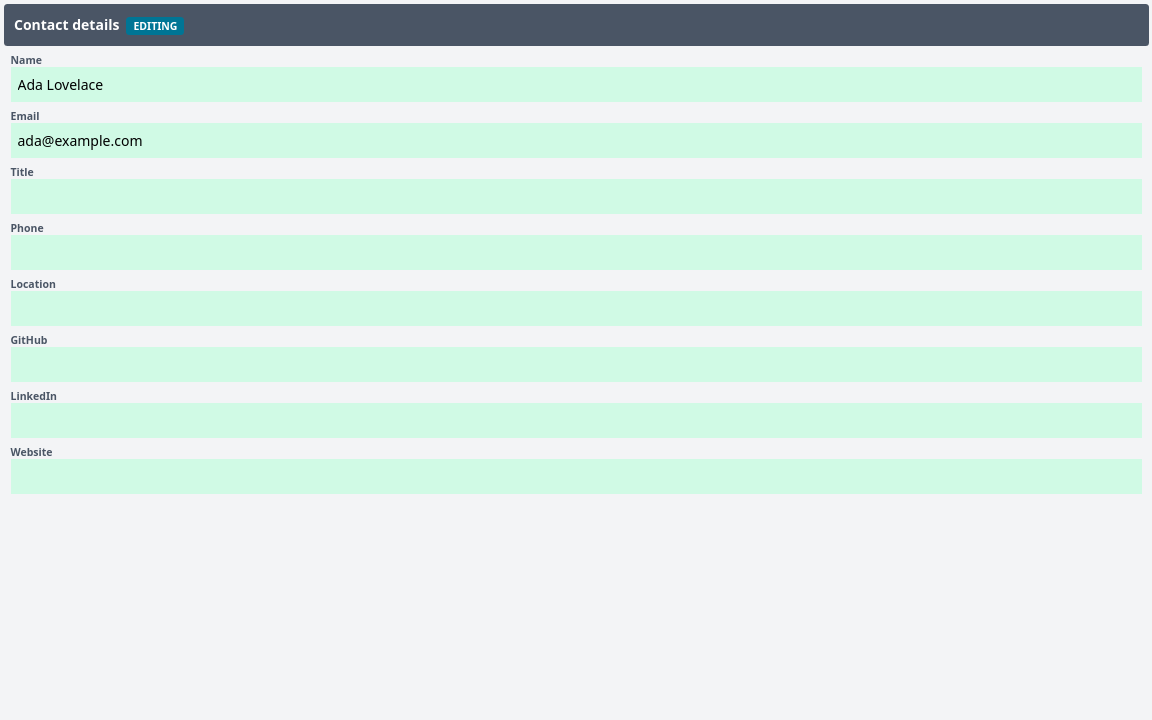
Test: ContactEditor › shows an inline error under just the email field for a malformed email
Replace the text in the field named "email" with "not-an-email" at [576, 140], box [10,122,1142,158]
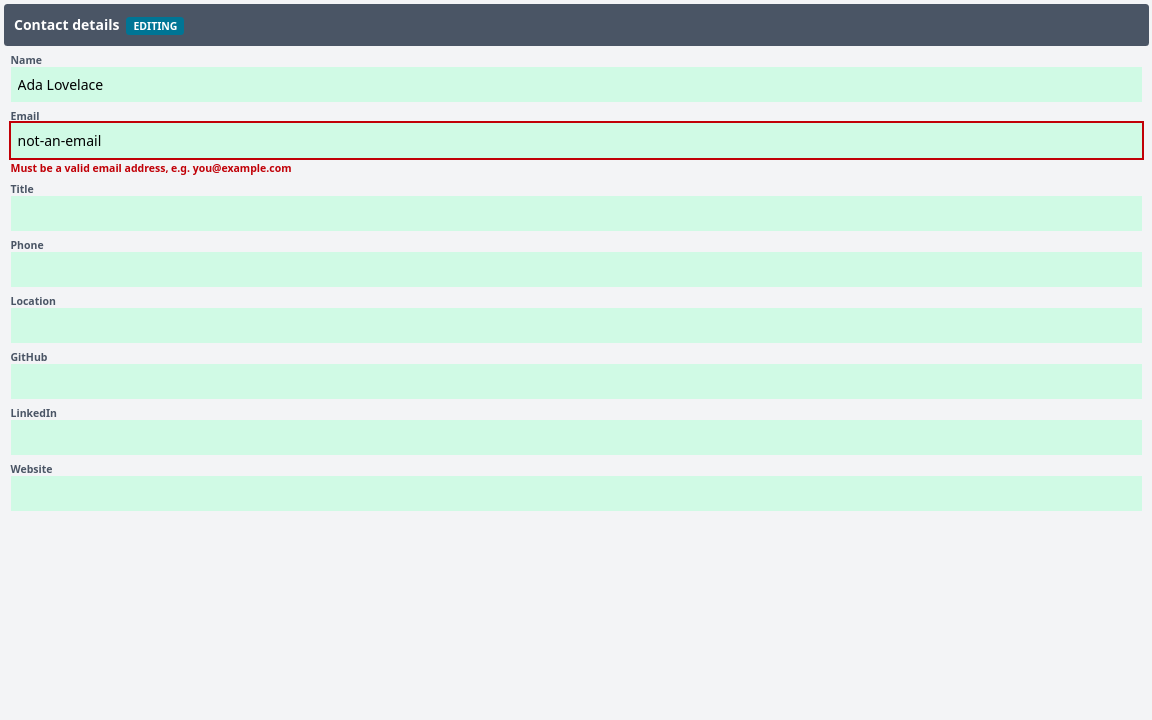
Expected: the number of messages is 1, [10,161,291,175]
Expected: the message "Must be a valid email address, e.g. you@example.com" is shown, [10,161,291,175]
